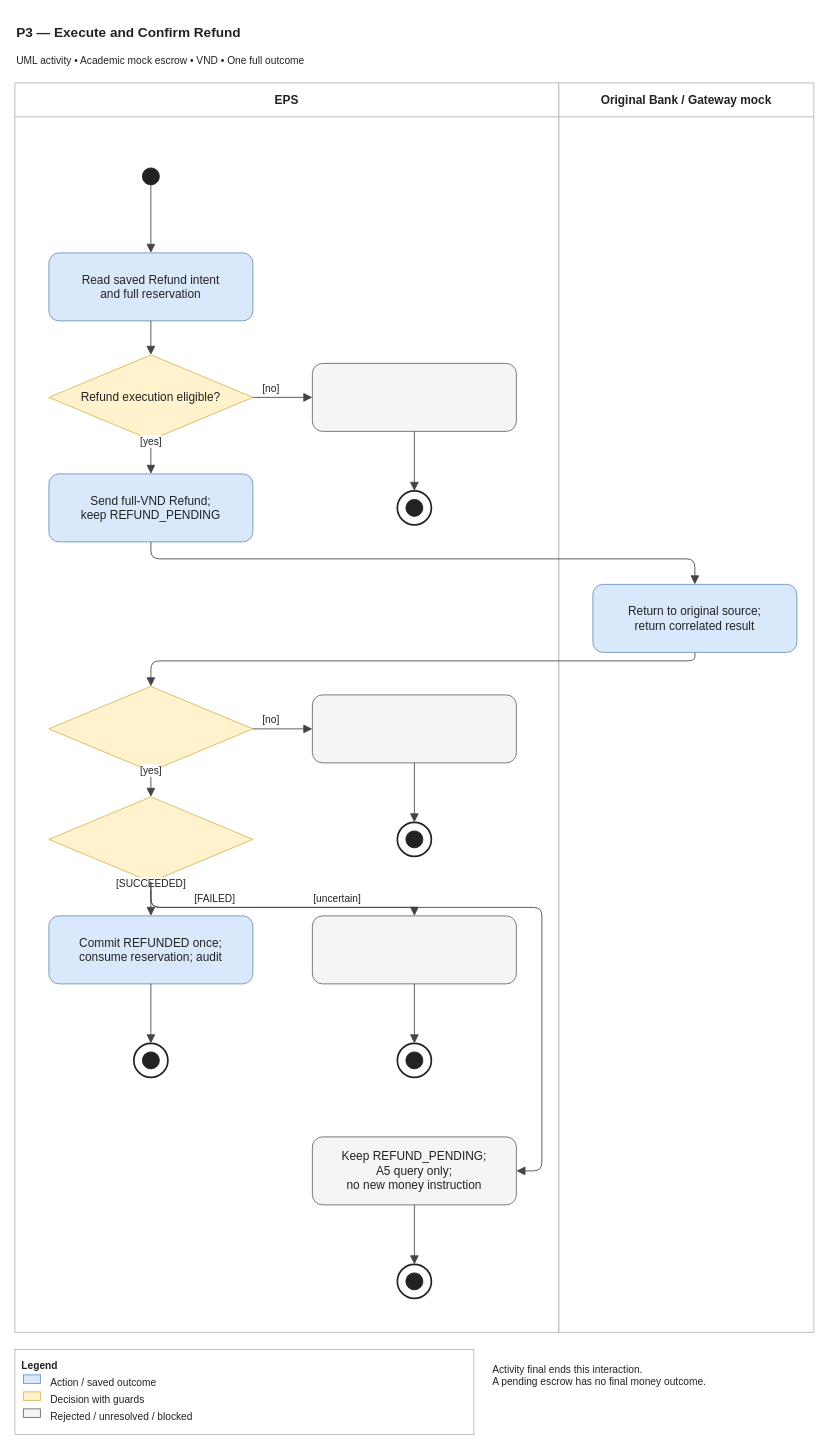
Image size: 829x1449. Some labels were removed from this diagram. Here are the shapes that lost their labels. From the top down, the centre of each, then its label:
the point at 414,397: Reject invalid instruction; no provider call
the point at 150,728: Refund result matched?
the point at 414,728: Keep unresolved; flag mismatch; A5 query
the point at 150,839: Authoritative refund result?
the point at 414,949: FAILED: no money moved; keep REFUND_PENDING lock
